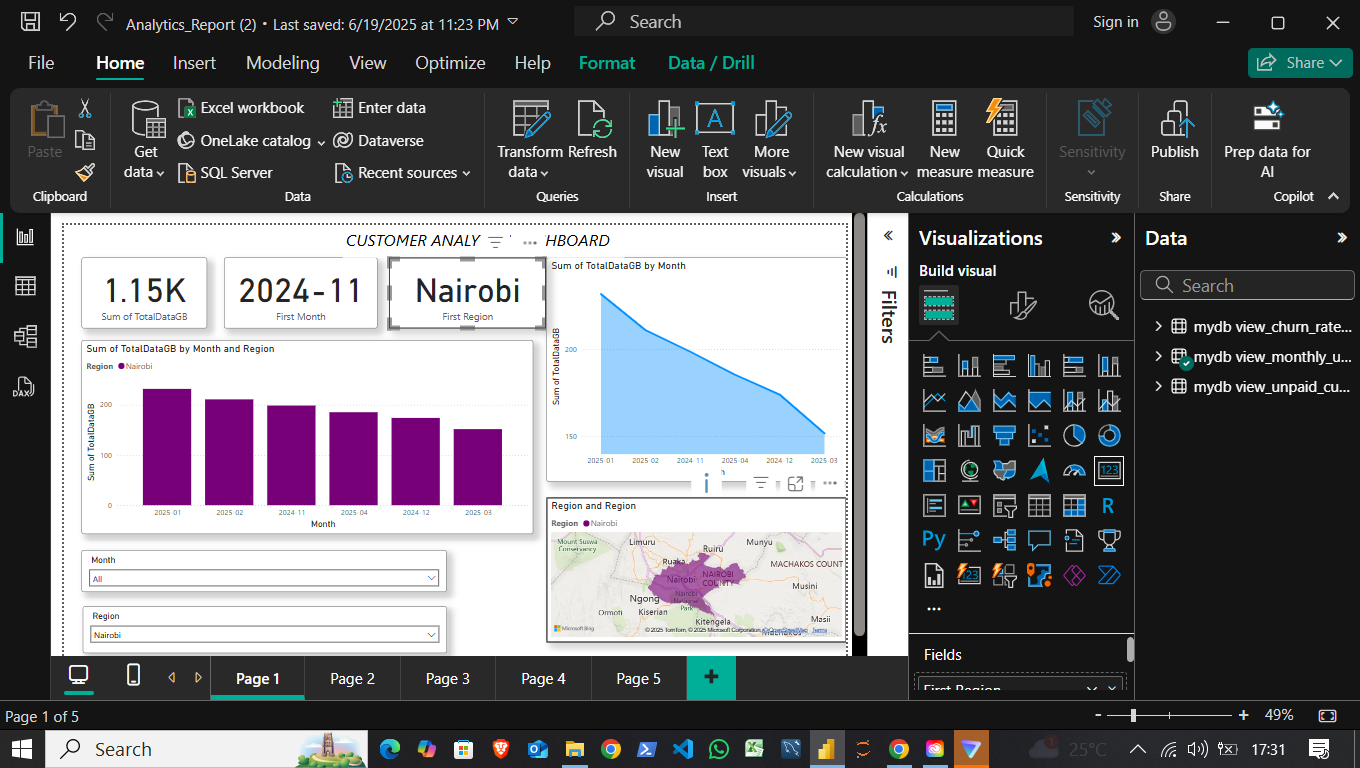

This screenshot's page, from the dashboard's own definition file:
{"tool":"powerbi","page":{"name":"Page 1","canvas":[1280,720],"ordinal":0},"visuals":[{"type":"columnChart","fields":{"Category":["mydb view_monthly_usage_per_region.Month"],"Y":["Sum(mydb view_monthly_usage_per_region.TotalDataGB)"],"Series":["mydb view_monthly_usage_per_region.Region"]},"box":[29.1,188.9,739.1,317.6],"z":0},{"type":"areaChart","fields":{"Category":["mydb view_monthly_usage_per_region.Month"],"Y":["Sum(mydb view_monthly_usage_per_region.TotalDataGB)"]},"box":[788.9,54,492,367.5],"z":1000},{"type":"slicer","fields":{"Values":["mydb view_monthly_usage_per_region.Month"]},"box":[29.1,531.5,597.9,68.5],"z":2000},{"type":"slicer","fields":{"Values":["mydb view_monthly_usage_per_region.Region"]},"box":[31.1,622.8,595.9,76.8],"z":3000},{"type":"filledMap","fields":{"Series":["mydb view_monthly_usage_per_region.Region"],"Category":["mydb view_monthly_usage_per_region.Region"]},"box":[788.9,446.4,492,236.7],"z":4000},{"type":"card","fields":{"Values":["Sum(mydb view_monthly_usage_per_region.TotalDataGB)"]},"box":[29.1,54,205.5,116.3],"z":5000},{"type":"card","fields":{"Values":["Min(mydb view_monthly_usage_per_region.Month)"]},"box":[261.6,54,251.2,116.3],"z":6000},{"type":"card","fields":{"Values":["Min(mydb view_monthly_usage_per_region.Region)"]},"box":[531.5,54,257.4,116.3],"z":7000},{"type":"textbox","box":[456.8,0,460.9,54],"z":7003}]}

Visuals, with their boxes on the page's 1280x720 design canvas (x1, y1, x2, y2). These are canvas units, not pixel positions in the 1360x768 screenshot, which may show the page scaled, cropped or inside an application window:
columnChart - mydb view_monthly_usage_per_region.Month x Sum(mydb view_monthly_usage_per_region.TotalDataGB): 29:189:768:506
areaChart - mydb view_monthly_usage_per_region.Month x Sum(mydb view_monthly_usage_per_region.TotalDataGB): 789:54:1281:422
slicer - mydb view_monthly_usage_per_region.Month: 29:532:627:600
slicer - mydb view_monthly_usage_per_region.Region: 31:623:627:700
filledMap - mydb view_monthly_usage_per_region.Region x mydb view_monthly_usage_per_region.Region: 789:446:1281:683
card - Sum(mydb view_monthly_usage_per_region.TotalDataGB): 29:54:235:170
card - Min(mydb view_monthly_usage_per_region.Month): 262:54:513:170
card - Min(mydb view_monthly_usage_per_region.Region): 532:54:789:170
textbox: 457:0:918:54
